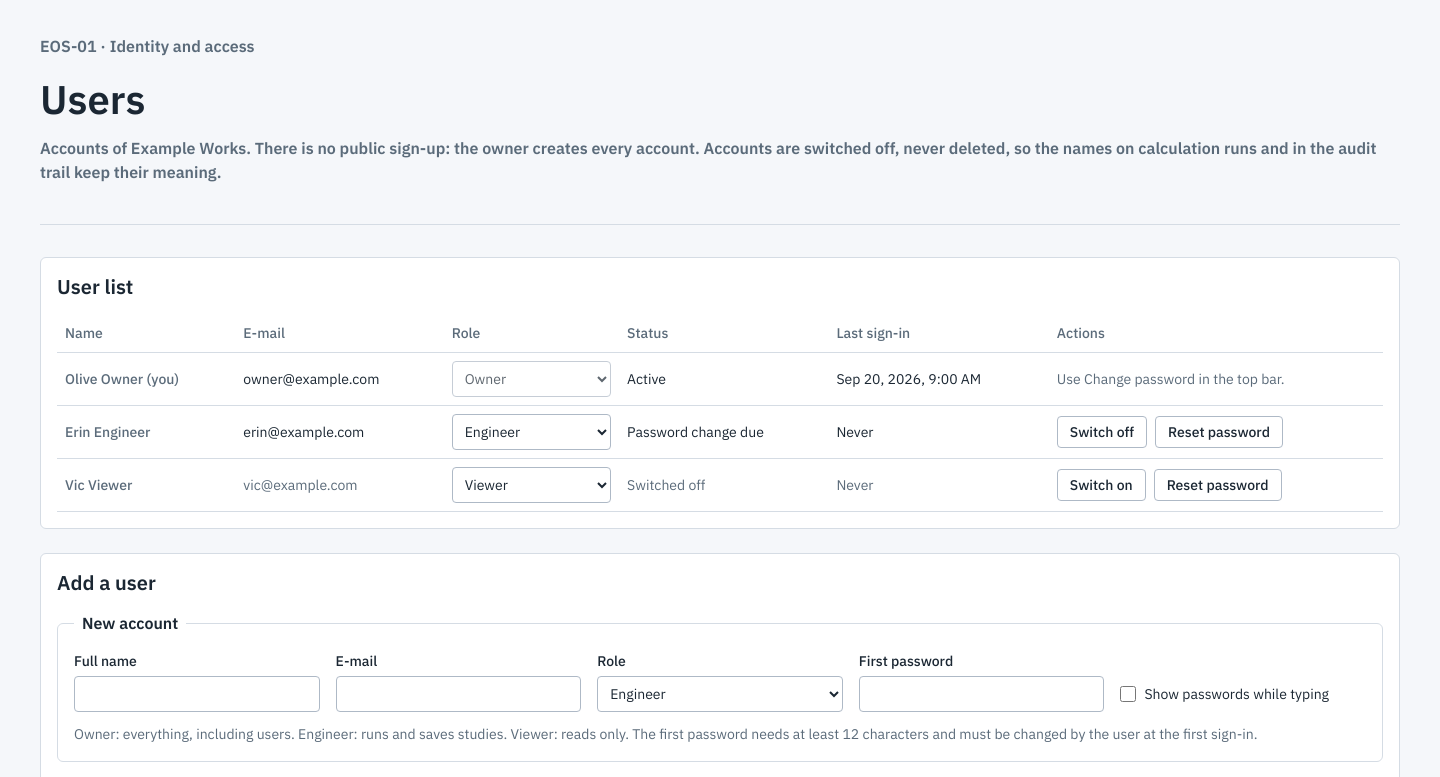
UsersPage › refuses a new user New Person / not-an-address / a first passphrase before anything is sent
Type "New Person" into the field labelled "Full name" at (197, 694), box [74, 676, 320, 712]
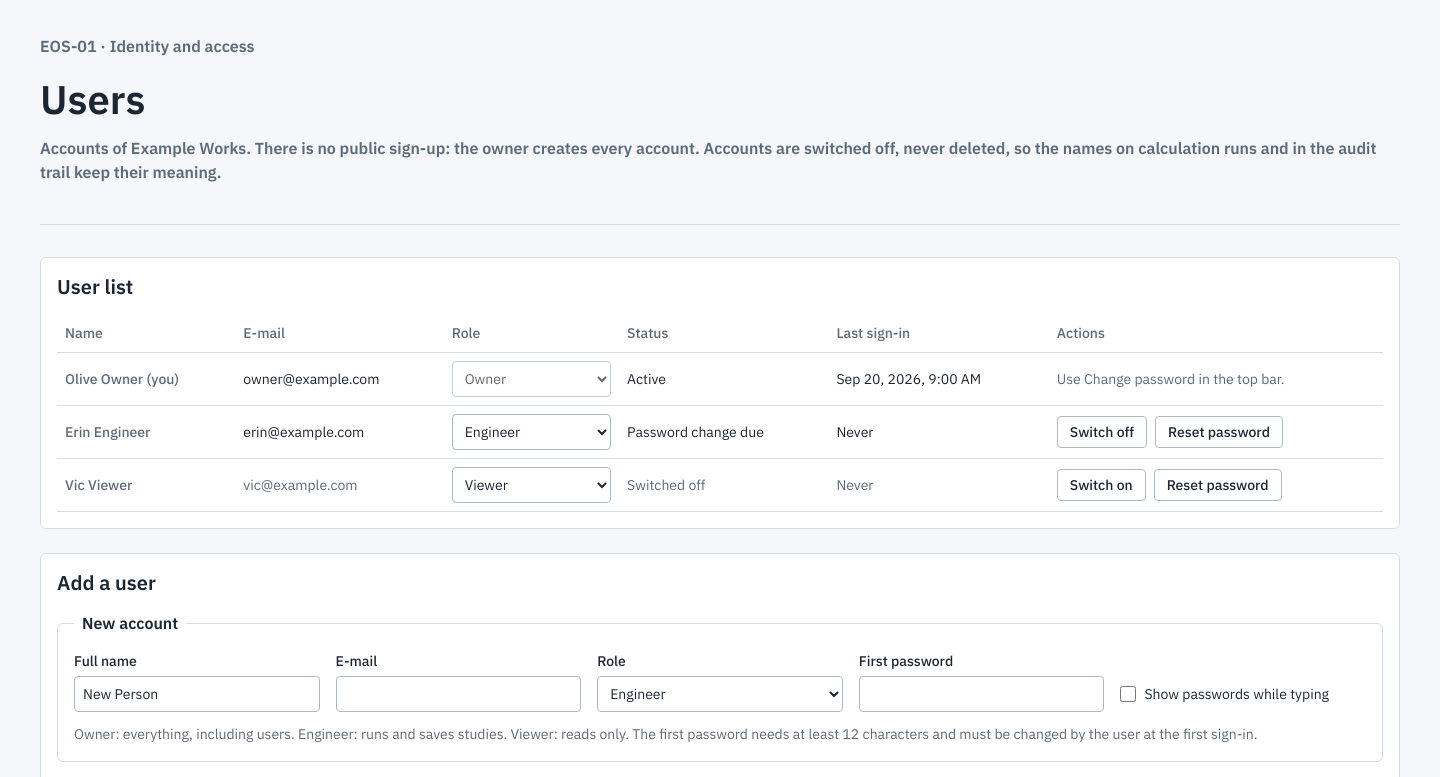
Type "not-an-address" into the field labelled "E-mail" at (458, 694), box [336, 676, 581, 712]
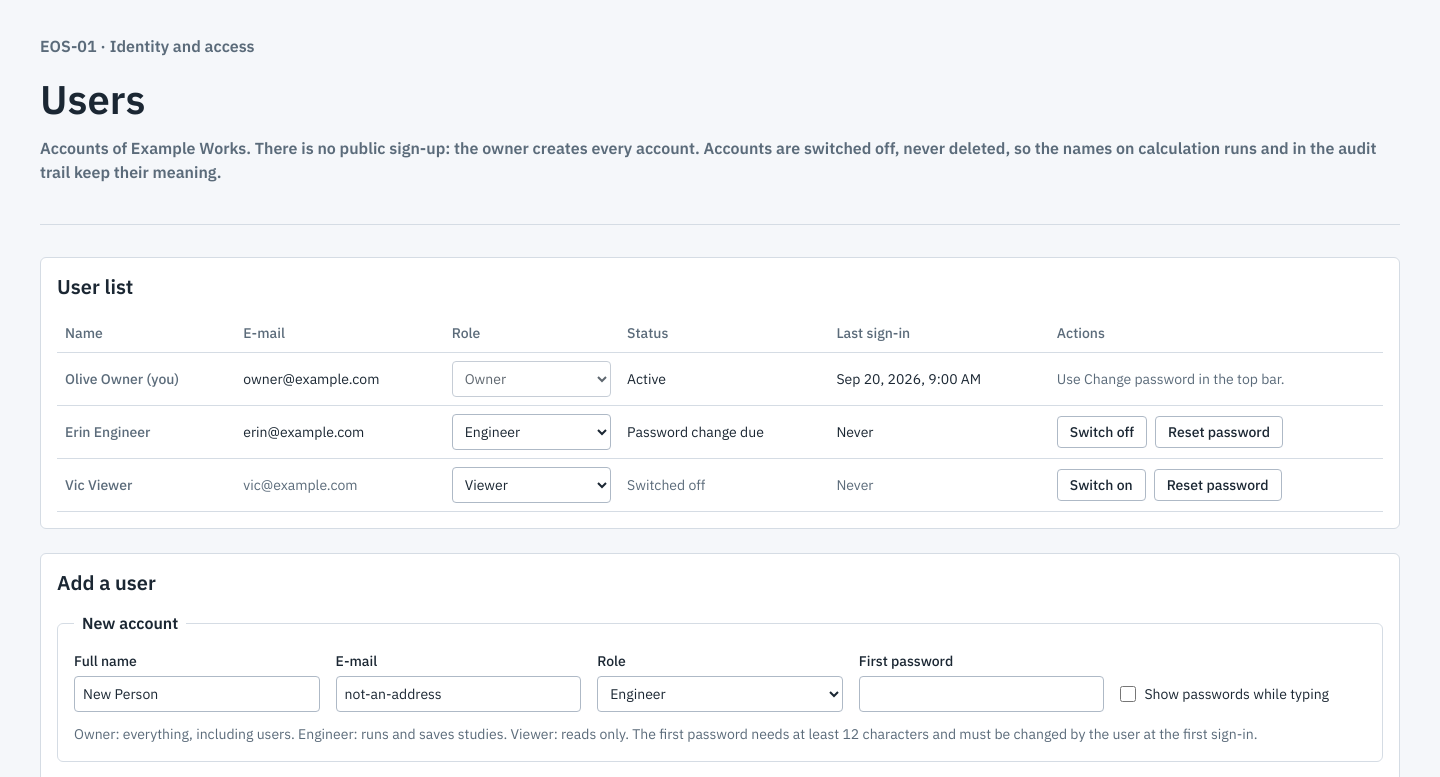
Type "a first passphrase" into the password field labelled "First password" at (982, 694), box [859, 676, 1104, 712]
(page scrolled)
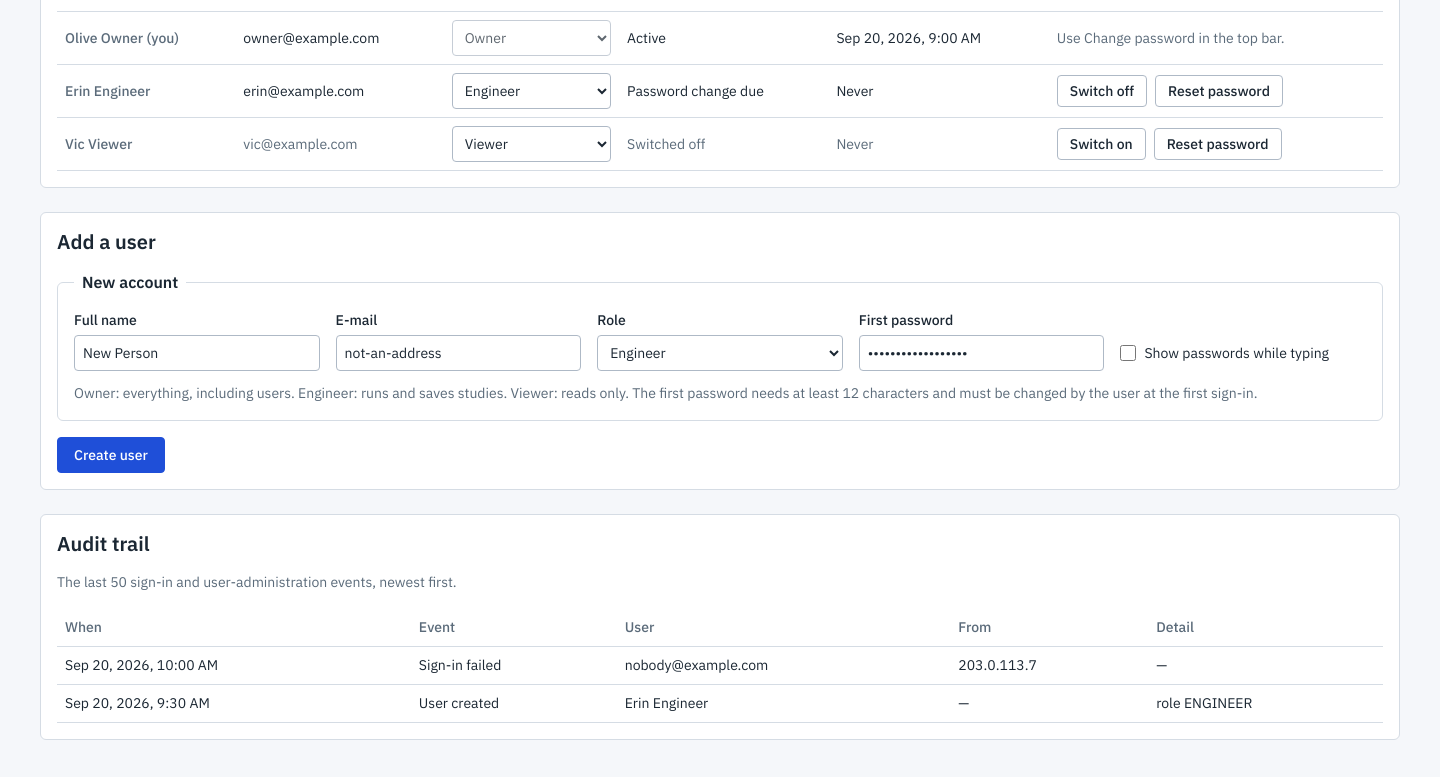
Click the button "Create user" at (111, 455), box [57, 437, 165, 473]
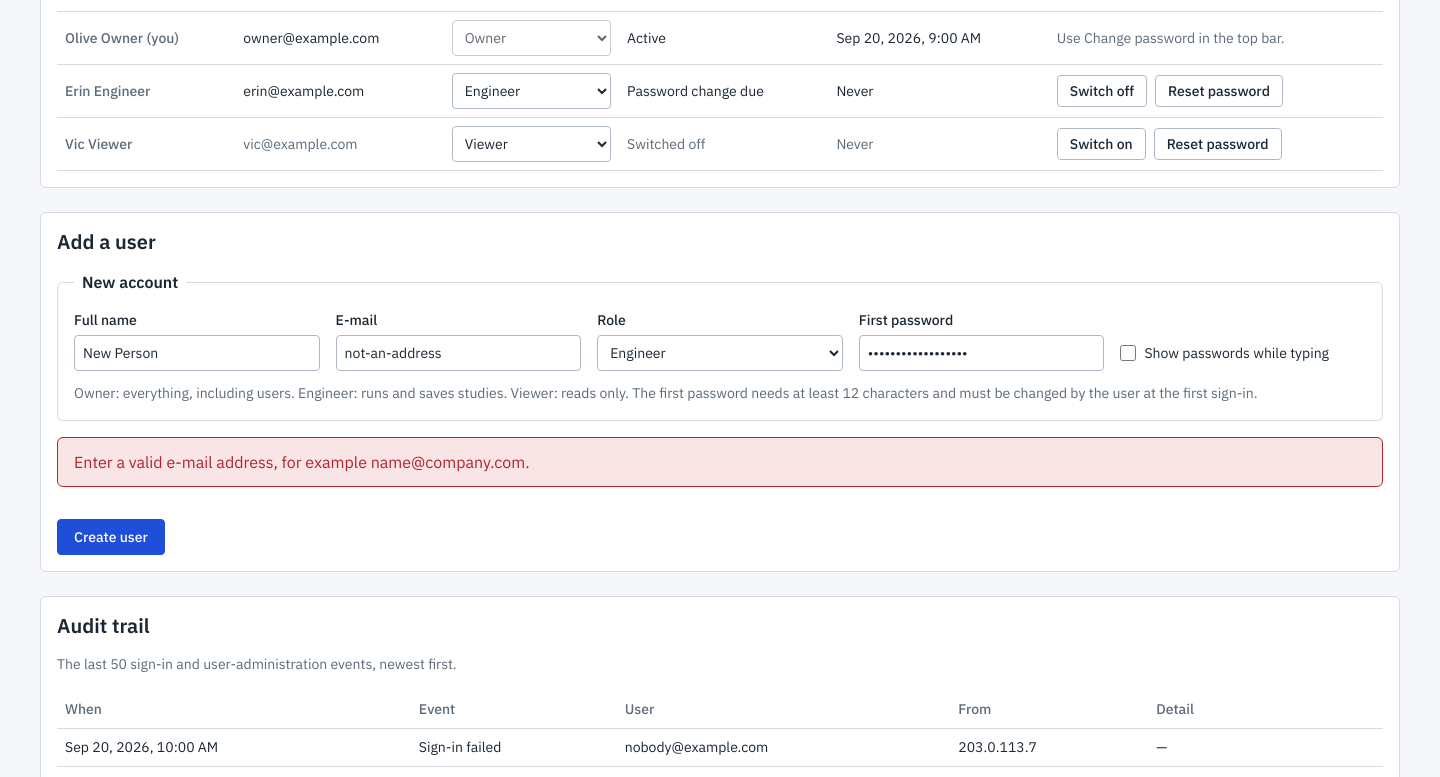
Result: the message reads "Enter a valid e-mail address, for example name@company.com." at [74, 452, 530, 472]
